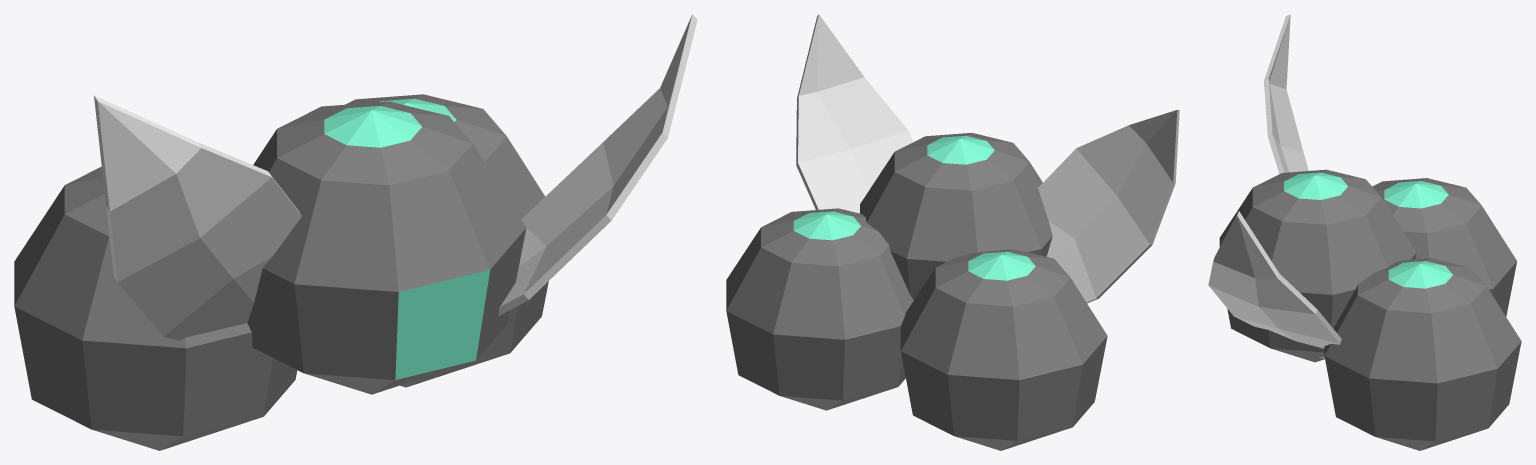
Rendered from Blue Berries.fbx.
The picture shows the model from 3 angles, left to right: view 1: azimuth 30°, elevation 25°; view 2: azimuth 150°, elevation 25°; view 3: azimuth 270°, elevation 25°; orthographic projection. The views are drawn at different scales.
Parts seen in each view (by area): view 1: Sphere015, Sphere016, Plane005, Plane006, Sphere014; view 2: Sphere016, Sphere014, Sphere015, Plane005, Plane006; view 3: Sphere014, Sphere015, Sphere016, Plane006, Plane005.
Part boxes in pixels (x1,y1,x2,y2): Sphere015: (247, 101, 526, 394); Sphere016: (14, 166, 297, 450); Plane005: (94, 95, 301, 340); Plane006: (498, 14, 697, 316); Sphere014: (345, 94, 548, 387); Sphere016: (900, 249, 1107, 450); Sphere014: (726, 208, 913, 410); Sphere015: (860, 132, 1052, 299); Plane005: (1038, 109, 1179, 303); Plane006: (796, 14, 912, 213); Sphere014: (1324, 258, 1521, 450); Sphere015: (1219, 169, 1416, 362); Sphere016: (1372, 178, 1516, 316); Plane006: (1208, 211, 1341, 358); Plane005: (1264, 14, 1308, 173).
Bounding box in the file's own units: 5.12 × 4.04 × 3.76.
